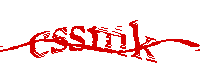c: (28, 29, 52, 60)
k: (128, 17, 159, 63)
m: (89, 24, 127, 57)
s: (50, 23, 69, 56), (69, 22, 88, 55)
